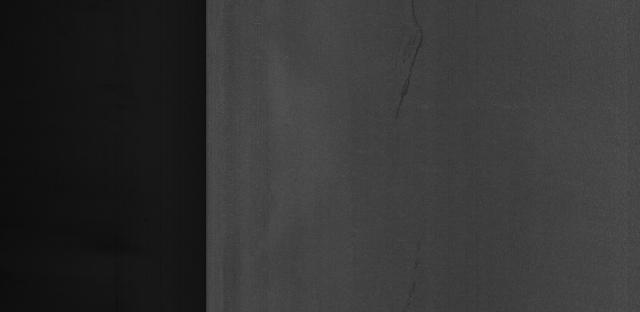water_spot: (390, 7, 437, 139)
